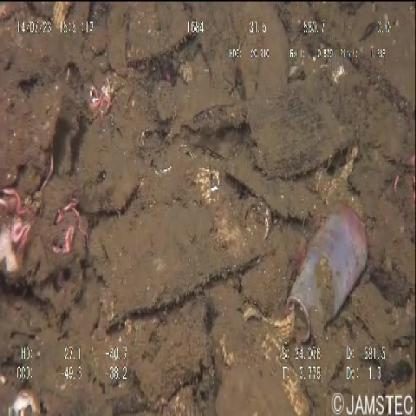Rác: (285, 205, 369, 345)
